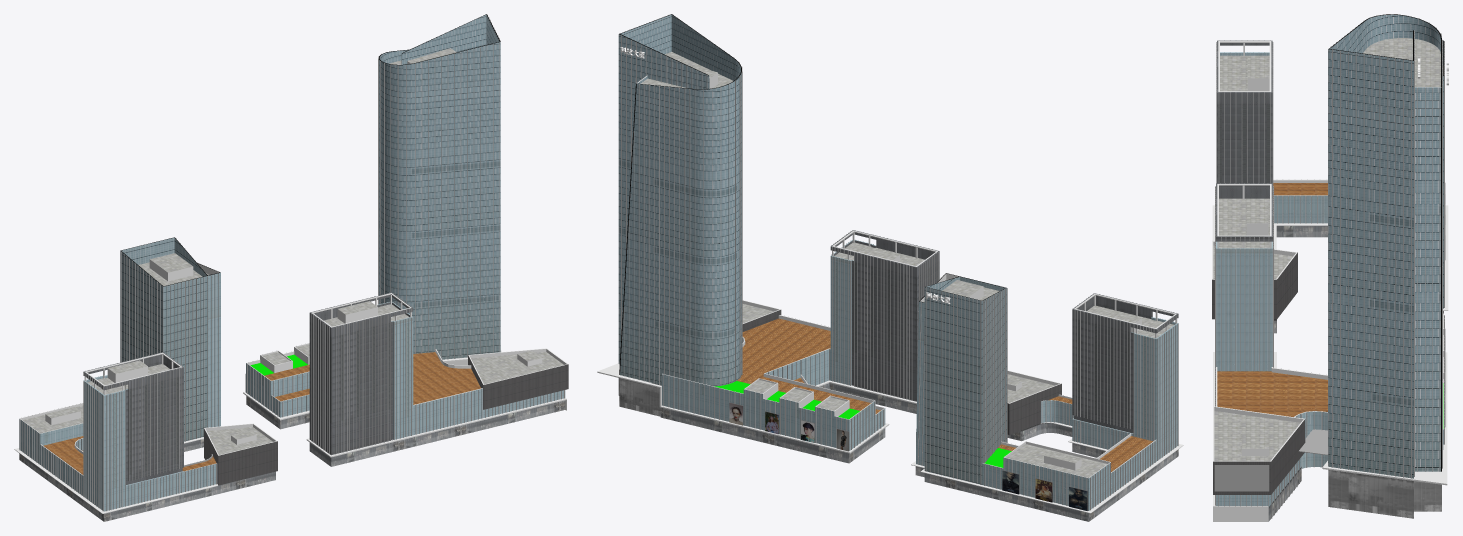
The model's file is zhiyu1.fbx.
3 renders of one model, left to right at view 1: azimuth 30°, elevation 25°; view 2: azimuth 150°, elevation 25°; view 3: azimuth 270°, elevation 25°, orthographic. The views are drawn at different scales.
Parts seen in each view (by area): view 1: ZhuLou_a_T1, WLM_gang, ZhuLou_a_T5, ZhuLou_a_T2, ZhuLou_a_T4, ZhuLou_a_T3, ZhuLou_a_T6; view 2: ZhuLou_a_T1, WLM_gang, ZhuLou_a_T5, ZhuLou_a_T3, ZhuLou_a_T4, ZhuLou_a_T2, ZhuLou_a_T6; view 3: ZhuLou_a_T1, ZhuLou_a_T5, WLM_gang, ZhuLou_a_T2, ZhuLou_a_T4, ZhuLou_a_T6.
Boxes of the visible parts, bbox=[...] form: ZhuLou_a_T1: bbox=[378, 14, 500, 359]; WLM_gang: bbox=[19, 14, 564, 511]; ZhuLou_a_T5: bbox=[243, 343, 568, 457]; ZhuLou_a_T2: bbox=[309, 292, 413, 466]; ZhuLou_a_T4: bbox=[83, 352, 183, 521]; ZhuLou_a_T3: bbox=[120, 237, 220, 451]; ZhuLou_a_T6: bbox=[14, 403, 277, 513]; ZhuLou_a_T1: bbox=[618, 14, 741, 416]; WLM_gang: bbox=[619, 14, 1178, 510]; ZhuLou_a_T5: bbox=[597, 300, 916, 463]; ZhuLou_a_T3: bbox=[915, 273, 1006, 495]; ZhuLou_a_T4: bbox=[1072, 293, 1178, 471]; ZhuLou_a_T2: bbox=[830, 230, 939, 413]; ZhuLou_a_T6: bbox=[911, 370, 1183, 521]; ZhuLou_a_T1: bbox=[1328, 14, 1441, 518]; ZhuLou_a_T5: bbox=[1213, 313, 1447, 521]; WLM_gang: bbox=[1215, 14, 1444, 518]; ZhuLou_a_T2: bbox=[1216, 183, 1272, 371]; ZhuLou_a_T4: bbox=[1217, 40, 1272, 183]; ZhuLou_a_T6: bbox=[1212, 179, 1448, 333].
Size of the model in its own units: 632 by 443 by 208.
